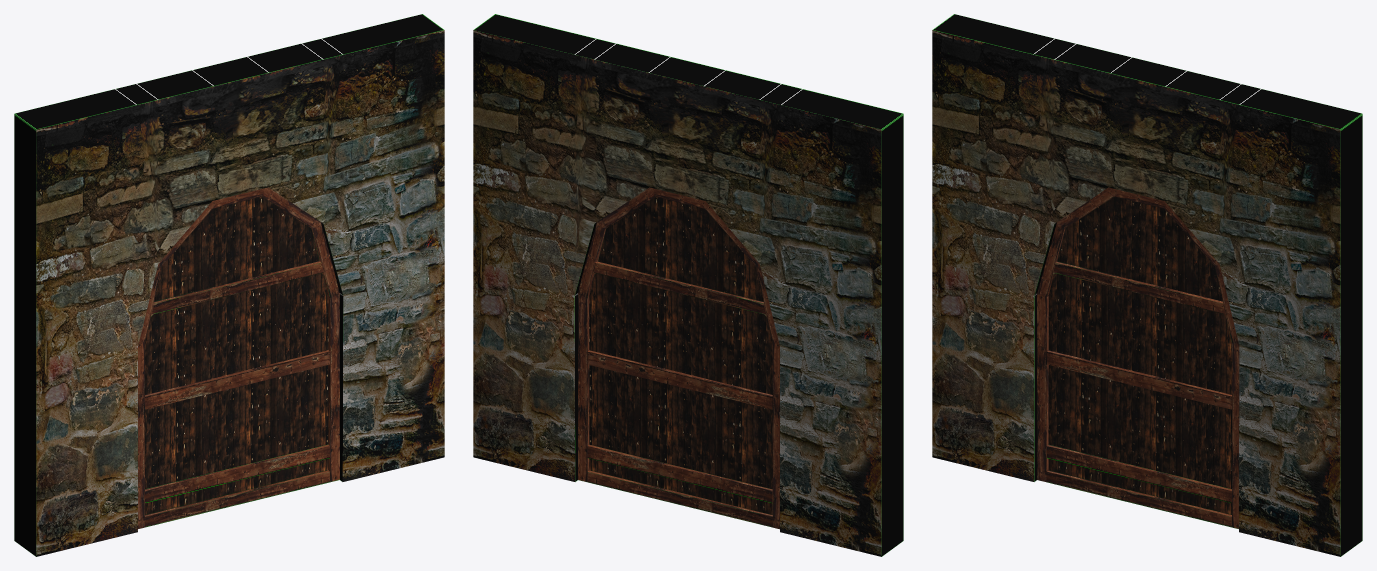
The model's file is WallDoor 1.fbx.
The picture shows the model from 3 angles, left to right: view 1: azimuth 30°, elevation 25°; view 2: azimuth 150°, elevation 25°; view 3: azimuth 330°, elevation 25°; orthographic projection.
Parts seen in each view (by area): view 1: WallDoor, Door; view 2: WallDoor, Door; view 3: WallDoor, Door.
Boxes of the visible parts, x1=… form: WallDoor: x1=14, y1=14, x2=444, y2=556; Door: x1=138, y1=187, x2=339, y2=528; WallDoor: x1=473, y1=14, x2=903, y2=556; Door: x1=578, y1=187, x2=779, y2=529; WallDoor: x1=932, y1=14, x2=1362, y2=556; Door: x1=1037, y1=187, x2=1239, y2=528.
Size of the model in its own units: 40 by 40 by 3.72.
Materials: 2 (2 with a texture image).
